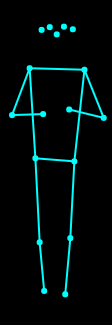mountain: (6, 20, 108, 302)
